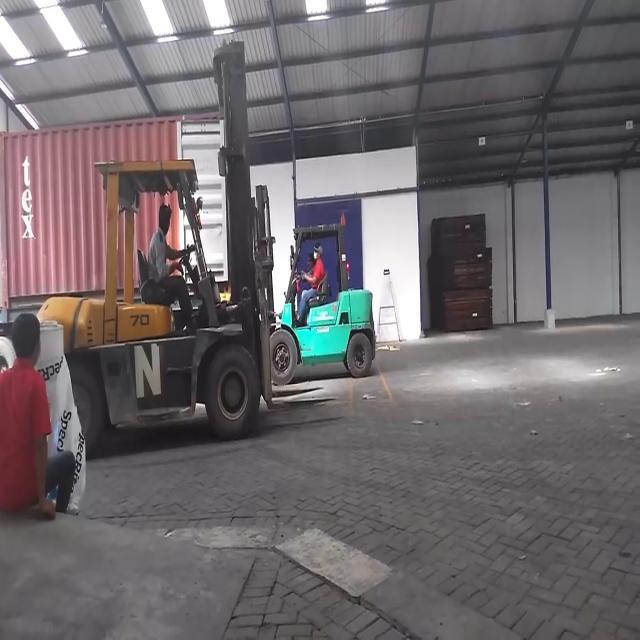Chariot elevateur: (27, 150, 280, 460), (261, 205, 384, 394)
